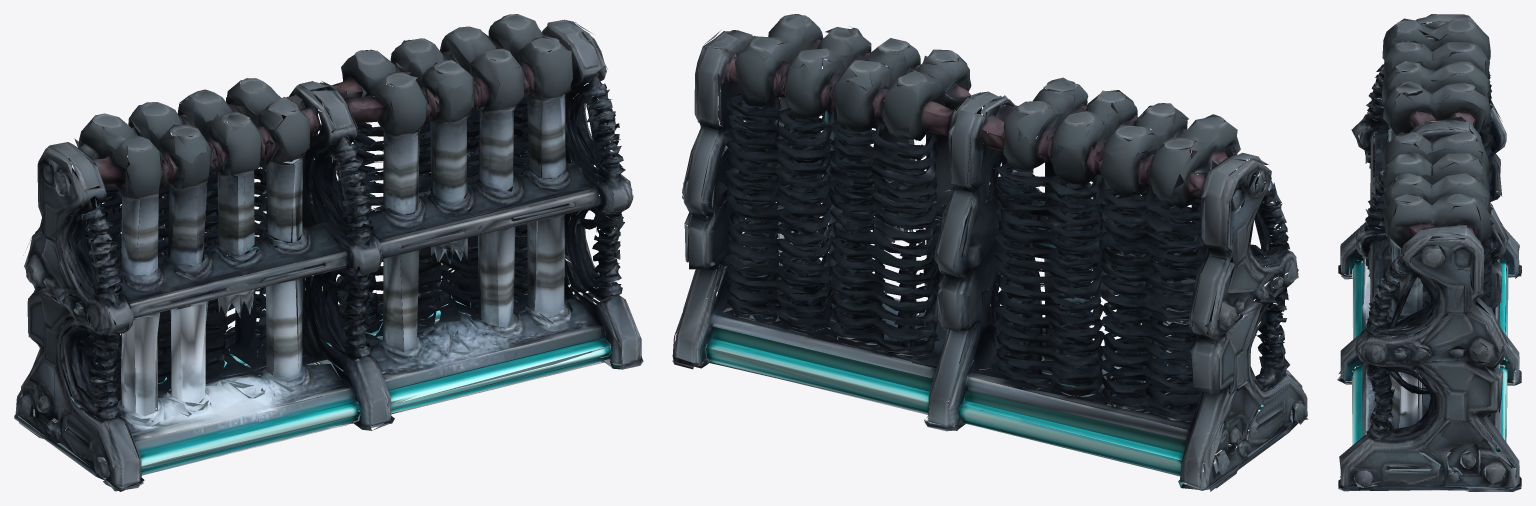
The model's file is life_ice_core_rack.glb.
The picture shows the model from 3 angles, left to right: view 1: azimuth 30°, elevation 25°; view 2: azimuth 150°, elevation 25°; view 3: azimuth 270°, elevation 25°; orthographic projection. The views are drawn at different scales.
Parts seen in each view (by area): view 1: node_0; view 2: node_0; view 3: node_0.
Part boxes in pixels (x1,y1,x2,y2): node_0: (14,14,643,491); node_0: (672,14,1308,491); node_0: (1337,14,1521,491).
Size of the model in its own units: 1.04 by 0.5662 by 0.3498.
Materials: 1 (1 with a texture image).
